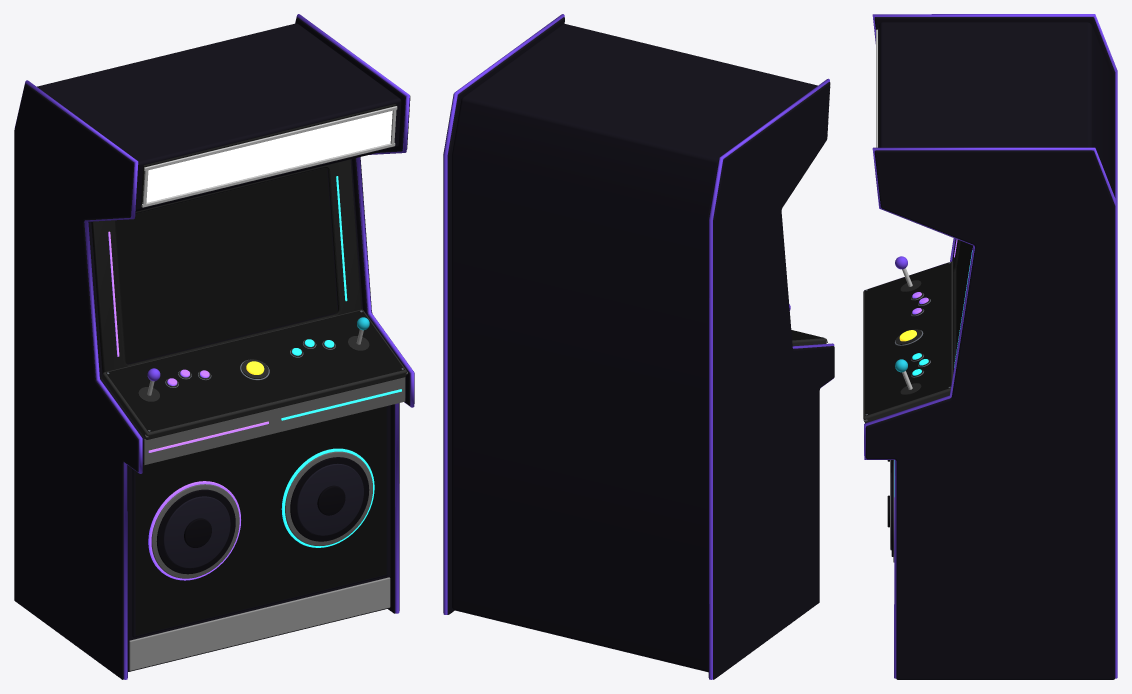
The model's file is cab-vgm-battle.glb.
3 views of the same model, side by side, from view 1: azimuth 30°, elevation 25°; view 2: azimuth 150°, elevation 25°; view 3: azimuth 270°, elevation 25° (orthographic). The views are drawn at different scales.
Parts seen in each view (by area): view 1: side_art_l, body, screen, front_art, glass, metal, deck_art, speaker, controls, marquee, trim, side_art_r; view 2: body, side_art_l, trim, side_art_r; view 3: side_art_r, body, deck_art, trim, controls, screen, glass, speaker, joy.
Part boxes in pixels (x1,y1,x2,y2): side_art_l: [14, 17, 409, 679]; body: [26, 18, 410, 679]; screen: [115, 167, 337, 363]; front_art: [135, 406, 386, 635]; glass: [116, 168, 338, 364]; metal: [129, 106, 407, 670]; deck_art: [106, 310, 404, 432]; speaker: [148, 448, 374, 580]; controls: [91, 104, 406, 452]; marquee: [146, 110, 392, 202]; trim: [14, 14, 414, 679]; side_art_r: [88, 96, 414, 677]; body: [443, 17, 832, 679]; side_art_l: [448, 17, 834, 679]; trim: [443, 14, 834, 679]; side_art_r: [443, 94, 719, 677]; side_art_r: [865, 17, 1115, 679]; body: [866, 17, 1114, 679]; deck_art: [865, 262, 951, 415]; trim: [864, 14, 1117, 678]; controls: [863, 28, 960, 423]; screen: [956, 241, 972, 350]; glass: [954, 241, 972, 361]; speaker: [887, 460, 894, 562]; joy: [895, 256, 921, 292].
Bounding box in the file's own units: 1.06 × 1.93 × 0.8356.
